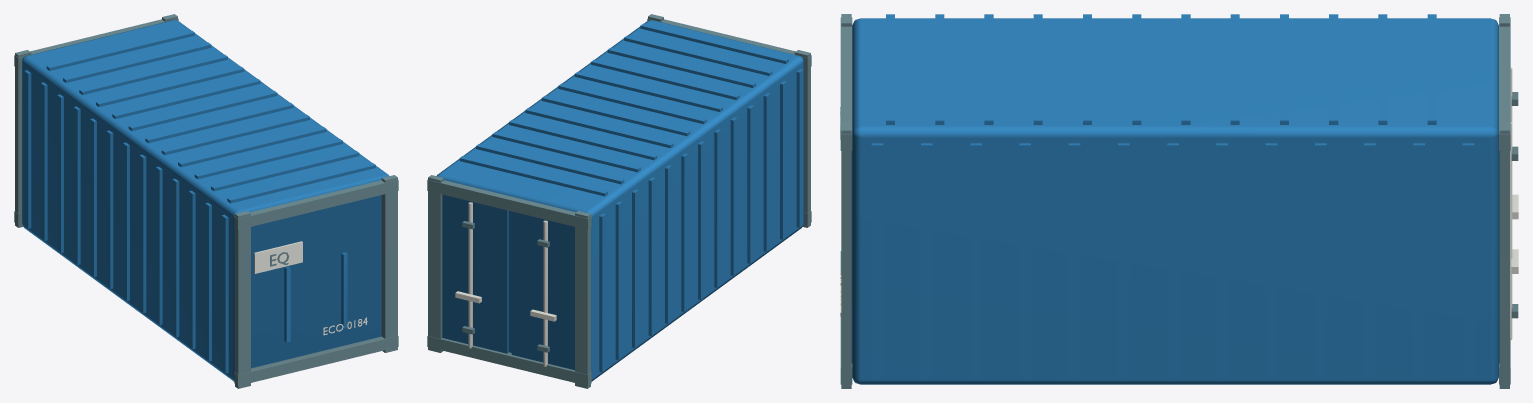
The model's file is container-blue.glb.
3 views of the same model, side by side, from view 1: azimuth 30°, elevation 25°; view 2: azimuth 150°, elevation 25°; view 3: azimuth 270°, elevation 25° (orthographic). The views are drawn at different scales.
Parts seen in each view (by area): view 1: freight container, corner casting, locking bar; view 2: freight container, corner casting, locking bar; view 3: freight container, corner casting, locking bar.
Boxes of the visible parts, x1=… form: freight container: x1=22, y1=20, x2=388, y2=381; corner casting: x1=14, y1=14, x2=398, y2=388; locking bar: x1=254, y1=241, x2=367, y2=335; freight container: x1=437, y1=20, x2=803, y2=381; corner casting: x1=427, y1=14, x2=811, y2=388; locking bar: x1=455, y1=202, x2=556, y2=366; freight container: x1=851, y1=14, x2=1499, y2=384; corner casting: x1=840, y1=14, x2=1518, y2=388; locking bar: x1=840, y1=67, x2=1518, y2=339.
Size of the model in its own units: 1.1 by 1.12 by 2.62.
